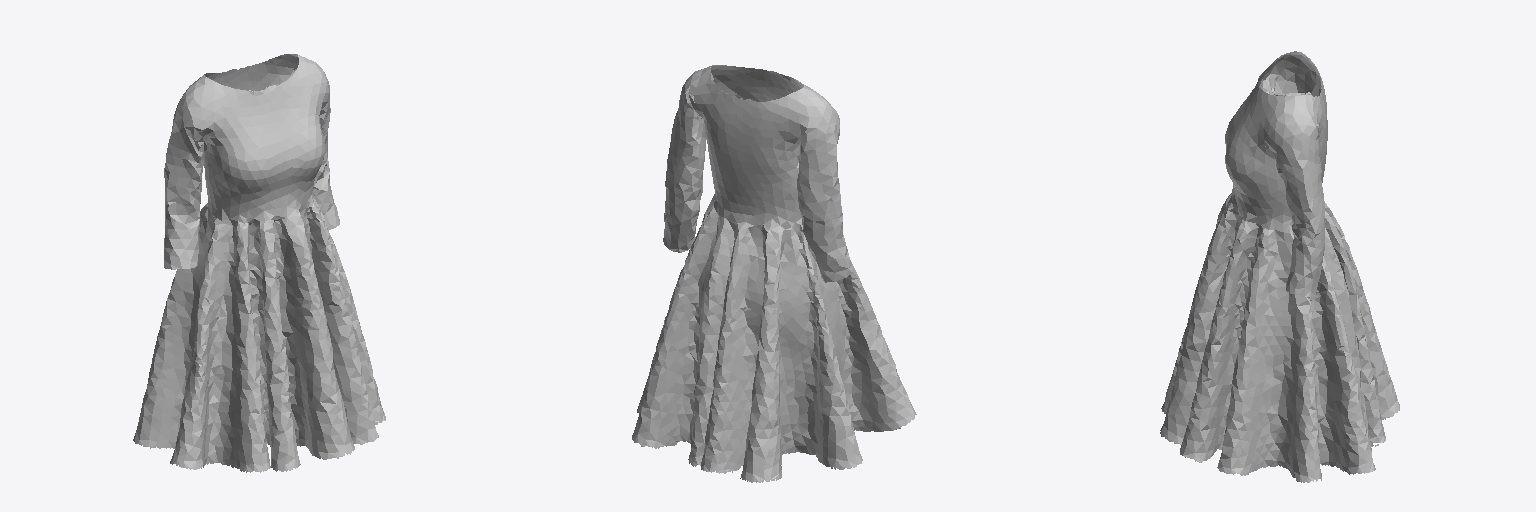
Rendered from dress-v5k-f10k-v2.obj.
3 views of the same model, side by side, from view 1: azimuth 30°, elevation 25°; view 2: azimuth 150°, elevation 25°; view 3: azimuth 270°, elevation 25° (orthographic).
Bounding box in the file's own units: 23.76 × 36.31 × 21.5.